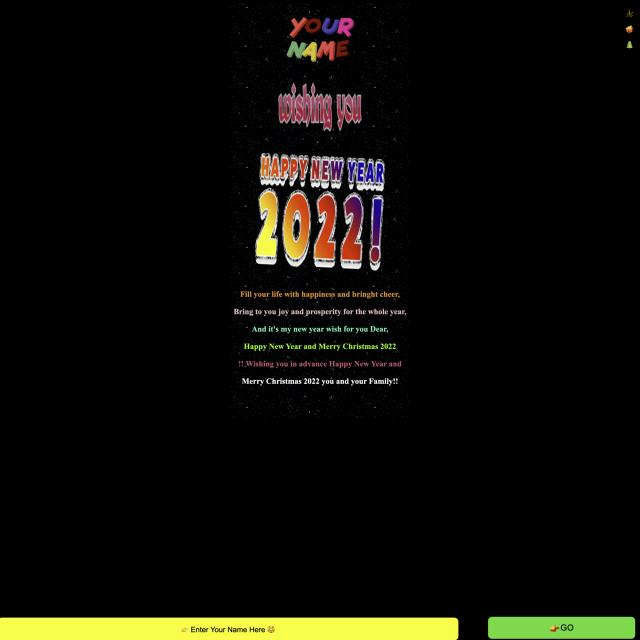CheckBox: (487, 616, 635, 640)
CheckedTextView: (1, 616, 458, 640)
card: (231, 1, 419, 412)
carousel: (549, 624, 559, 632), (267, 626, 275, 634), (181, 626, 189, 632)
data feed: (190, 626, 264, 633), (560, 624, 574, 631)
